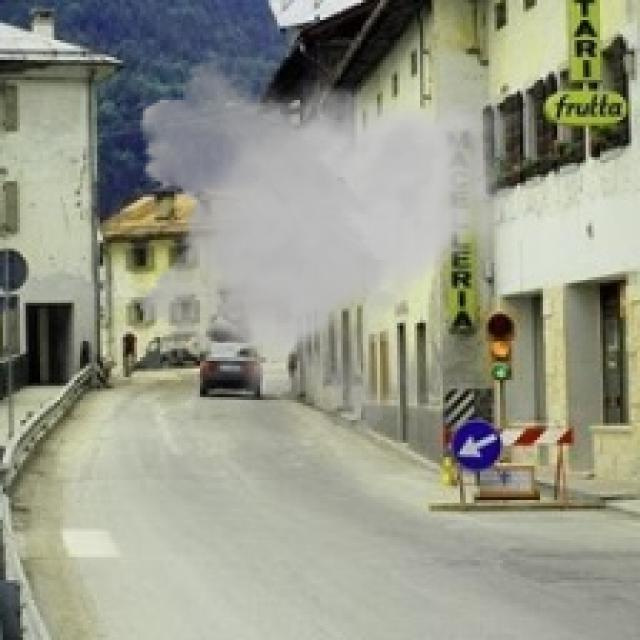smoke: (128, 48, 528, 443)
